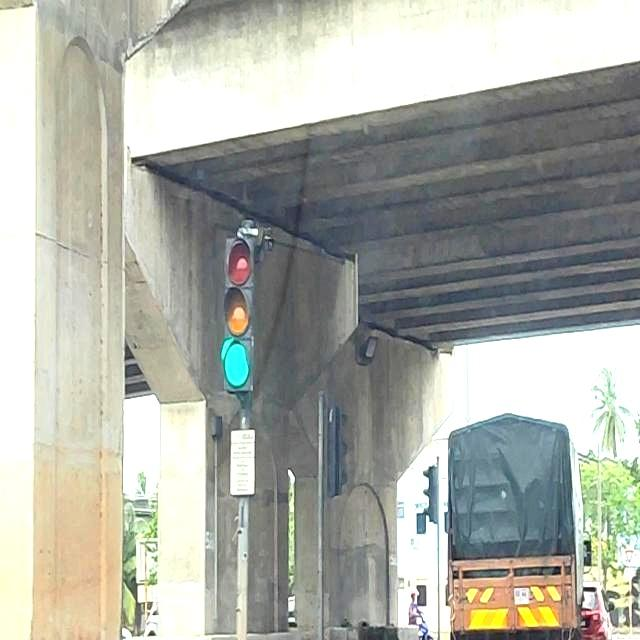Green: (223, 234, 254, 392)
